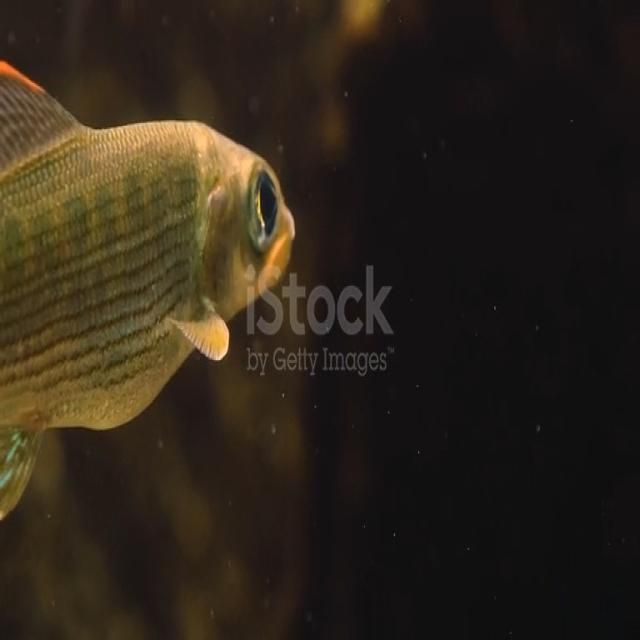fish: (1, 62, 296, 519)
